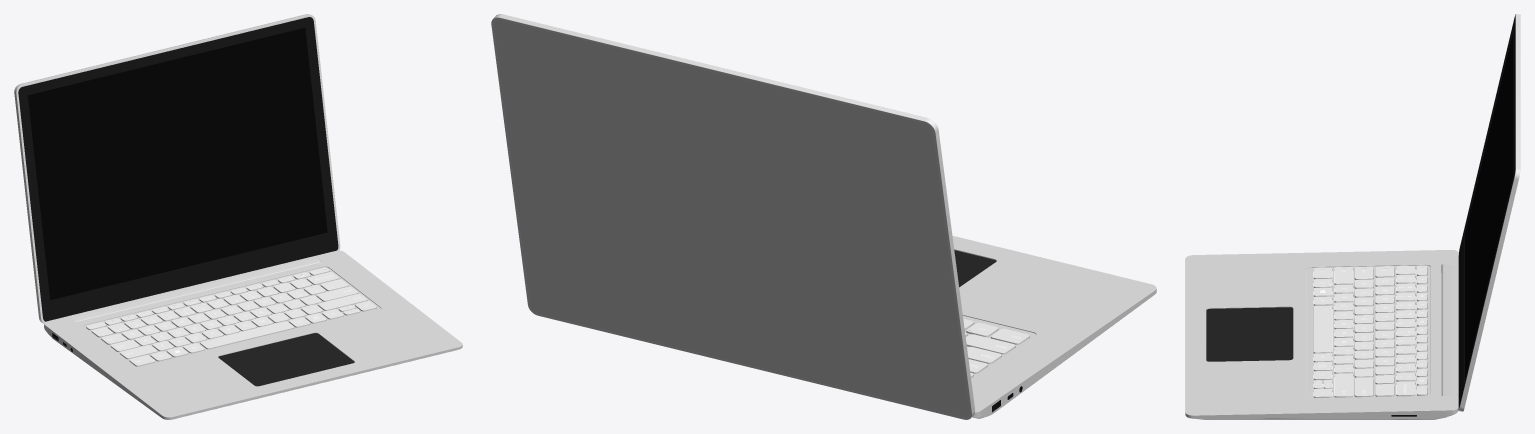
The model's file is laptop-3D.glb.
3 renders of one model, left to right at view 1: azimuth 30°, elevation 25°; view 2: azimuth 150°, elevation 25°; view 3: azimuth 270°, elevation 25°, orthographic. The views are drawn at different scales.
Visible parts, largest first — view 1: Screen, Modern Slim Laptop, Screen Frame, Keyboard; view 2: Screen Frame, Modern Slim Laptop, Keyboard; view 3: Modern Slim Laptop, Keyboard, Screen, Screen Frame.
Part boxes in pixels (x1=…): Screen: x1=28, y1=28, x2=327, y2=299; Modern Slim Laptop: x1=44, y1=250, x2=462, y2=419; Screen Frame: x1=14, y1=14, x2=340, y2=323; Keyboard: x1=86, y1=267, x2=376, y2=366; Screen Frame: x1=491, y1=14, x2=975, y2=419; Modern Slim Laptop: x1=952, y1=235, x2=1156, y2=418; Keyboard: x1=963, y1=318, x2=1029, y2=377; Modern Slim Laptop: x1=1185, y1=250, x2=1458, y2=419; Keyboard: x1=1313, y1=265, x2=1427, y2=397; Screen: x1=1464, y1=34, x2=1512, y2=380; Screen Frame: x1=1458, y1=14, x2=1520, y2=411.
Size of the model in its own units: 0.3395 by 0.2466 by 0.2996.
8 materials, 1 textured.
